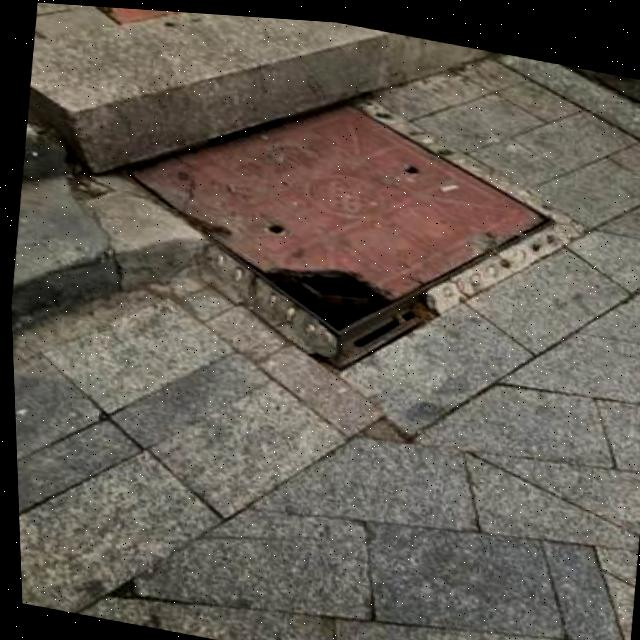manhole: (113, 55, 566, 384)
